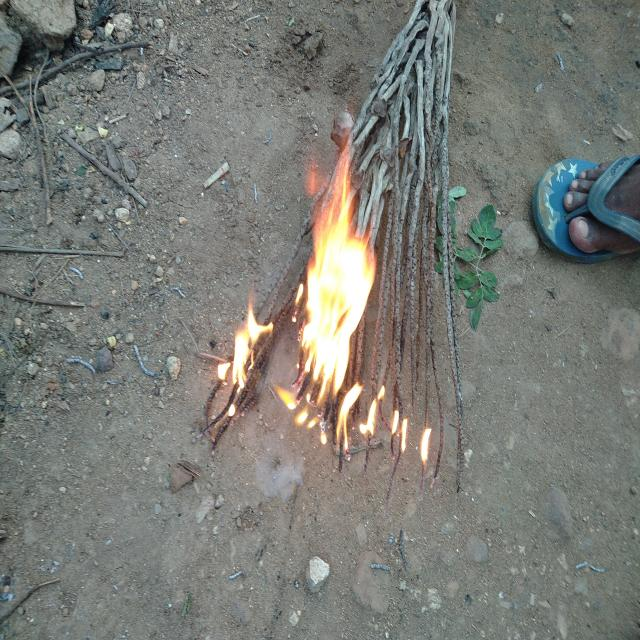Fire: (158, 365, 377, 506), (168, 302, 258, 364)
